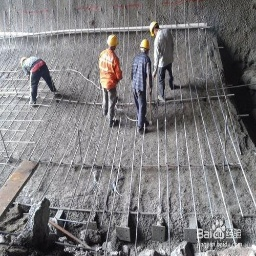helmet: (104, 33, 120, 50), (139, 38, 153, 53)
no-vest: (97, 49, 123, 92), (154, 27, 176, 73), (132, 51, 153, 96)
person: (97, 31, 125, 126), (130, 38, 155, 136), (150, 21, 178, 102), (22, 56, 59, 109)
